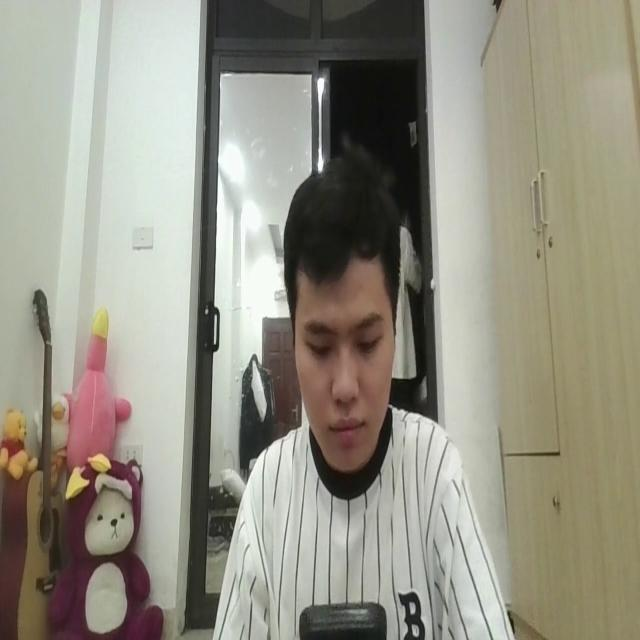phone: (298, 586, 387, 640)
student: (208, 155, 515, 640)
